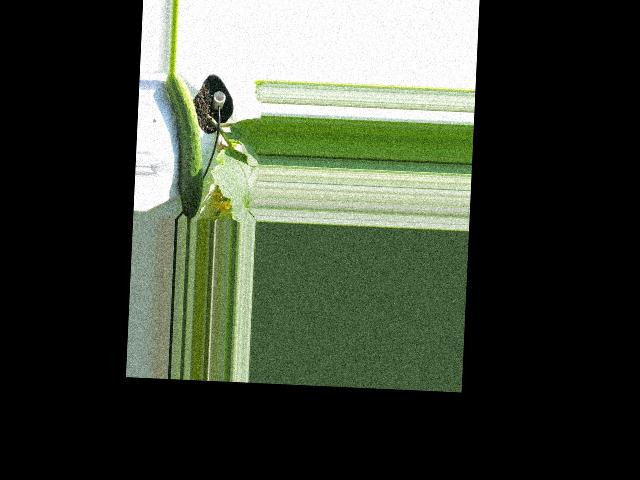cucumber: (159, 69, 207, 219)
